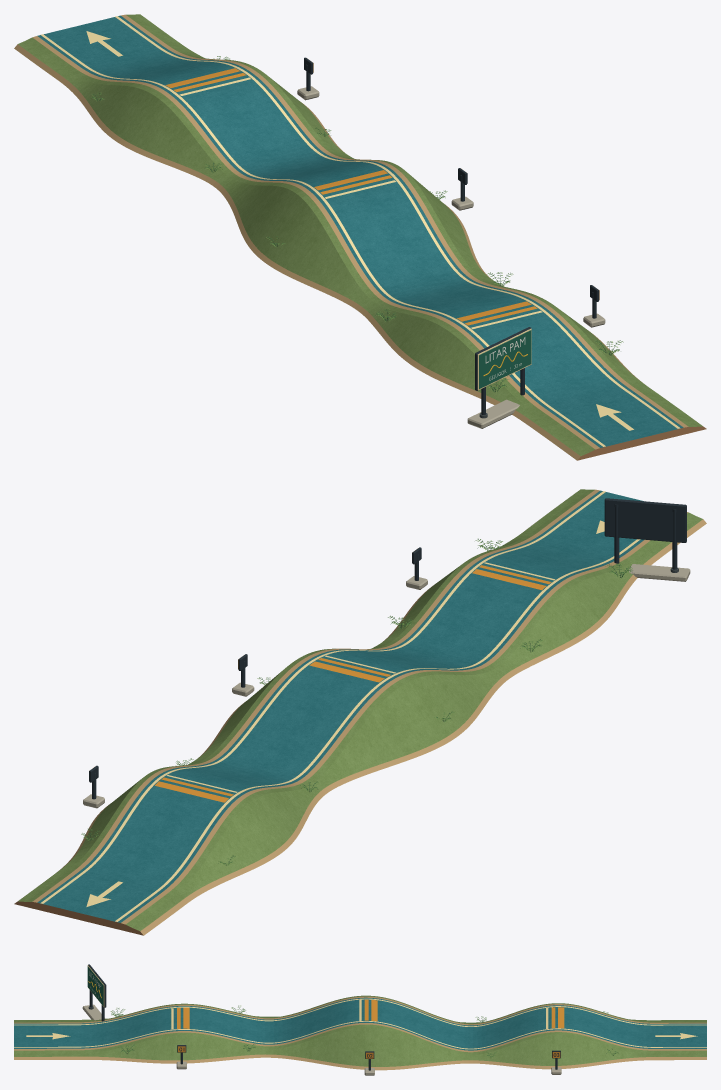
3 renders of one model, top to bottom at view 1: azimuth 30°, elevation 25°; view 2: azimuth 150°, elevation 25°; view 3: azimuth 270°, elevation 25°, orthographic. The views are drawn at different scales.
Visible parts, largest first — view 1: Contoured cycle embankment, Surfacing inlays, Trail map, Bank ferns, Trail map base; view 2: Contoured cycle embankment, Surfacing inlays, Trail map, Bank ferns, Trail map base; view 3: Contoured cycle embankment, Surfacing inlays, Trail map, Bank ferns, Split marker plinths, Direction arrows, Stage tiles, Trail map base.
Boxes of the visible parts, x1,y1,x2,y2 form: Contoured cycle embankment: [14, 14, 706, 460]; Surfacing inlays: [40, 16, 680, 446]; Trail map: [475, 327, 531, 390]; Bank ferns: [91, 56, 623, 392]; Trail map base: [467, 399, 519, 428]; Contoured cycle embankment: [14, 489, 706, 935]; Surfacing inlays: [40, 491, 640, 921]; Trail map: [604, 498, 686, 542]; Bank ferns: [81, 538, 632, 865]; Trail map base: [629, 564, 690, 581]; Contoured cycle embankment: [14, 995, 706, 1070]; Surfacing inlays: [14, 998, 706, 1049]; Trail map: [87, 964, 106, 1007]; Bank ferns: [110, 1005, 618, 1057]; Split marker plinths: [176, 1061, 561, 1075]; Direction arrows: [26, 1033, 697, 1039]; Stage tiles: [177, 1045, 560, 1058]; Trail map base: [82, 1004, 105, 1020].
Size of the model in its own units: 7.45 by 2.27 by 32.
Materials: 15 (2 with a texture image).
